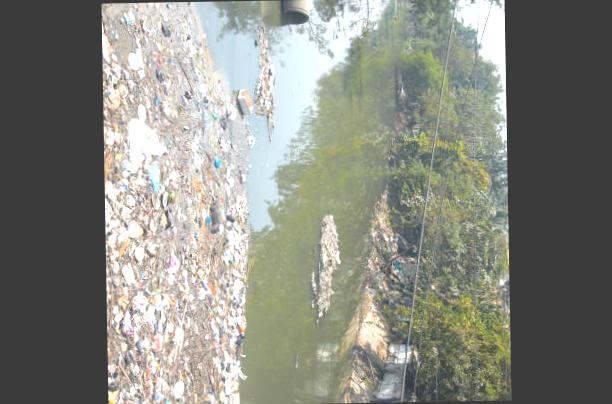Stagnant water: (233, 0, 449, 404)
Trash: (100, 1, 241, 404)
